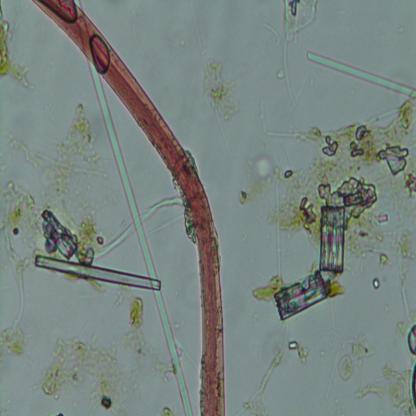Background material: (268, 147, 416, 271), (0, 103, 100, 208), (0, 173, 43, 363), (303, 97, 416, 167), (36, 325, 117, 416), (34, 252, 161, 288), (114, 284, 154, 370), (46, 208, 110, 260), (0, 7, 35, 90), (241, 347, 285, 413), (207, 54, 245, 129), (241, 156, 284, 204), (337, 332, 376, 379), (380, 360, 413, 414), (281, 0, 318, 44), (250, 272, 286, 306), (401, 251, 416, 323), (322, 269, 344, 300), (292, 332, 310, 366), (358, 381, 381, 403), (405, 322, 416, 357), (158, 363, 175, 381), (411, 360, 416, 410), (370, 275, 380, 290), (161, 404, 173, 416), (178, 38, 187, 46)
Diatom: (272, 270, 328, 322), (317, 202, 350, 275)
Glass filter fibre: (82, 62, 195, 416), (306, 50, 416, 100), (279, 38, 300, 107), (267, 126, 304, 139), (265, 20, 281, 44)
Microfibre: (34, 0, 228, 416)
